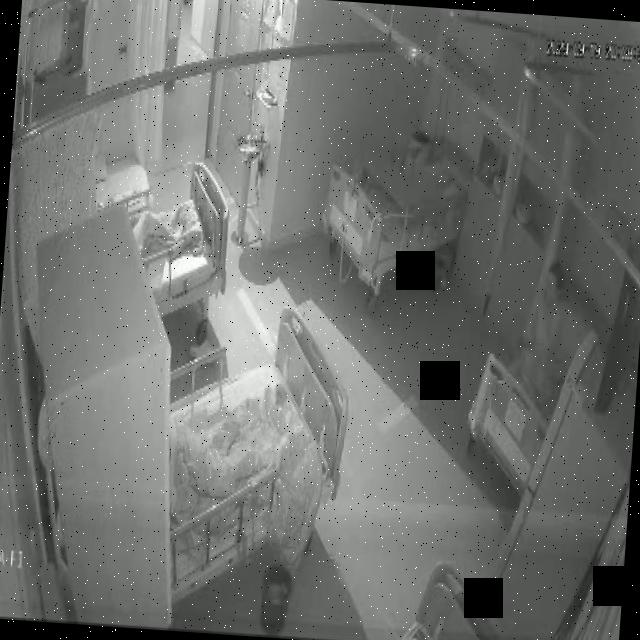bed: (156, 304, 350, 582), (318, 118, 472, 279), (474, 271, 594, 458), (130, 154, 236, 316)
patient: (513, 258, 569, 394)
sit: (514, 256, 572, 403)
